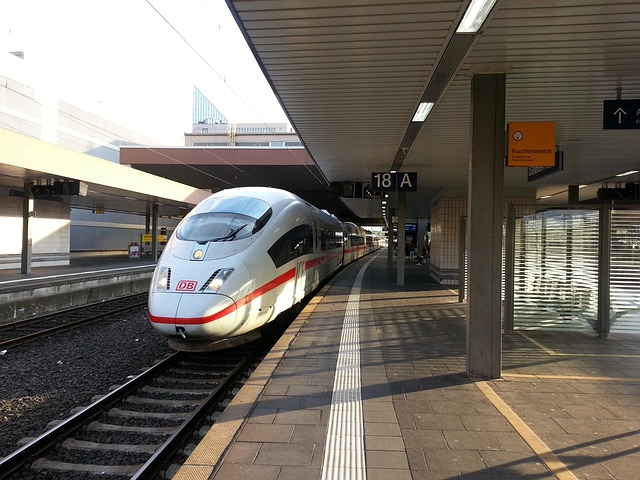train1: (146, 183, 383, 355)
